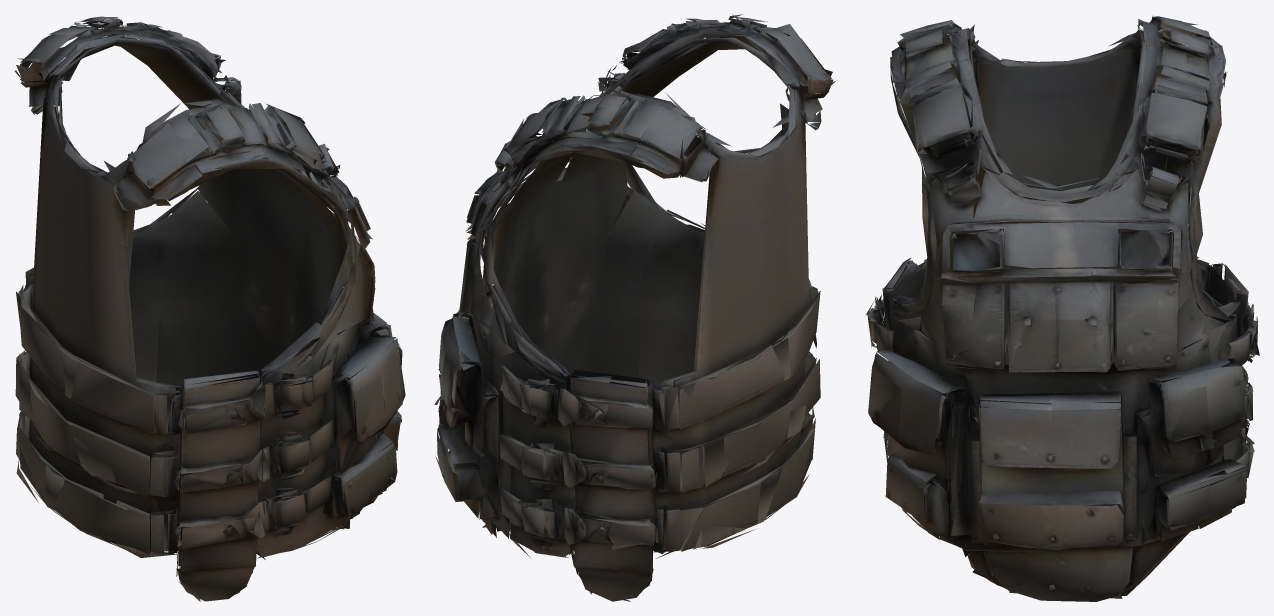
File: mer_heavy_armor_vest_LOD2.glb
3 renders of one model, left to right at view 1: azimuth 30°, elevation 25°; view 2: azimuth 150°, elevation 25°; view 3: azimuth 270°, elevation 25°, orthographic.
Visible parts, largest first — view 1: tripo_node_8c215259-2e06-4478-ae20-6da728c0bd17; view 2: tripo_node_8c215259-2e06-4478-ae20-6da728c0bd17; view 3: tripo_node_8c215259-2e06-4478-ae20-6da728c0bd17.
Part boxes in pixels (x1,y1,x2,y2): tripo_node_8c215259-2e06-4478-ae20-6da728c0bd17: (14,16,405,601); tripo_node_8c215259-2e06-4478-ae20-6da728c0bd17: (434,14,835,601); tripo_node_8c215259-2e06-4478-ae20-6da728c0bd17: (865,16,1259,601).
Size of the model in its own units: 0.6739 by 1.01 by 0.7251.
1 material, 1 textured.
